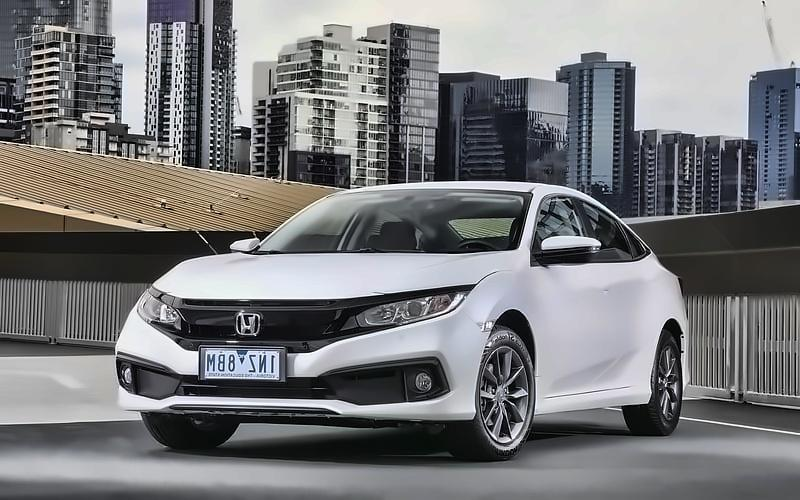Car hood: (149, 249, 521, 305)
Fender - -F-L-: (458, 243, 538, 401)
Fender - -R-L-: (638, 247, 687, 402)
Front bumper: (113, 306, 489, 429)
Headlight - -L-: (341, 285, 474, 338)
Headlight - -R-: (136, 283, 191, 336)
Passenger-s door - -F-L-: (529, 181, 618, 416)
Passenger-s door - -R-L-: (579, 180, 659, 419)
Side bumper - -L-: (531, 373, 656, 422)
Side mirror - -L-: (529, 235, 601, 268)
Side mirror - -R-: (229, 236, 263, 254)
